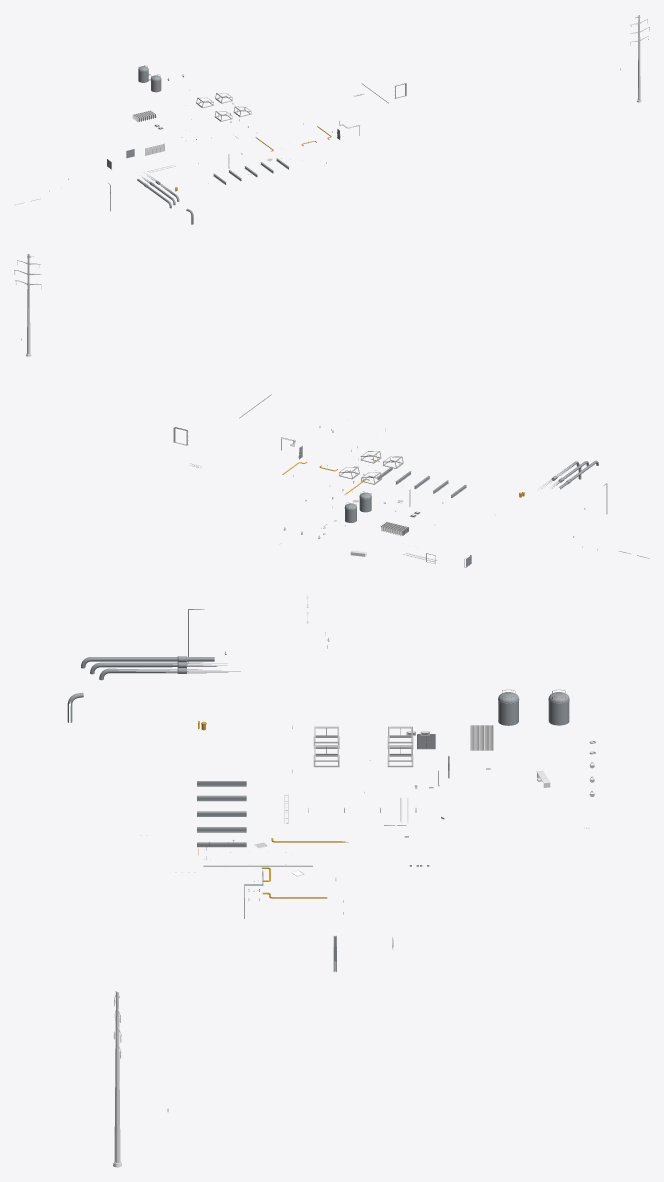
The picture shows the model from 3 angles, top to bottom: view 1: azimuth 30°, elevation 25°; view 2: azimuth 150°, elevation 25°; view 3: azimuth 270°, elevation 25°; orthographic projection. The views are drawn at different scales.
Parts seen in each view (by area): view 1: n0_lr0_agg_merge_metal_pipe_001_3_fragment2_c-2_2, n0_lr0_agg_merge_metal_trim_001_1_fragment1, n0_lr0_agg_nomerge_nuke_machinery_01_color_0_fragment1, n0_lr0_agg_merge_nuke_power_pole_02_color_0_fragment1_c6_2; view 2: n0_lr0_agg_merge_metal_pipe_001_3_fragment2_c-2_2, n0_lr0_agg_merge_metal_trim_001_1_fragment1, n0_lr0_agg_nomerge_nuke_machinery_01_color_0_fragment1, n0_lr0_agg_merge_nuke_power_pole_02_color_0_fragment1_c6_2; view 3: n0_lr0_agg_merge_metal_pipe_001_3_fragment2_c-2_2, n0_lr0_agg_merge_web_joist_001_0_fragment12_c0_1, n0_lr0_agg_nomerge_nuke_machinery_01_color_0_fragment1, n0_lr0_agg_merge_metal_trim_001_1_fragment1, n0_lr0_agg_merge_nuke_power_pole_02_color_0_fragment1_c6_2.
Boxes of the visible parts, x1,y1,x2,y2 form: n0_lr0_agg_merge_metal_pipe_001_3_fragment2_c-2_2: [108, 174, 193, 224]; n0_lr0_agg_merge_metal_trim_001_1_fragment1: [196, 93, 251, 121]; n0_lr0_agg_nomerge_nuke_machinery_01_color_0_fragment1: [138, 65, 161, 92]; n0_lr0_agg_merge_nuke_power_pole_02_color_0_fragment1_c6_2: [620, 15, 649, 102]; n0_lr0_agg_merge_metal_pipe_001_3_fragment2_c-2_2: [541, 460, 607, 513]; n0_lr0_agg_merge_metal_trim_001_1_fragment1: [339, 451, 403, 484]; n0_lr0_agg_nomerge_nuke_machinery_01_color_0_fragment1: [344, 491, 371, 522]; n0_lr0_agg_merge_nuke_power_pole_02_color_0_fragment1_c6_2: [14, 254, 41, 356]; n0_lr0_agg_merge_metal_pipe_001_3_fragment2_c-2_2: [67, 609, 240, 722]; n0_lr0_agg_merge_web_joist_001_0_fragment12_c0_1: [197, 781, 246, 847]; n0_lr0_agg_nomerge_nuke_machinery_01_color_0_fragment1: [498, 689, 569, 725]; n0_lr0_agg_merge_metal_trim_001_1_fragment1: [313, 726, 413, 767]; n0_lr0_agg_merge_nuke_power_pole_02_color_0_fragment1_c6_2: [113, 991, 168, 1167].
Size of the model in its own units: 9437 by 1653 by 3666.
